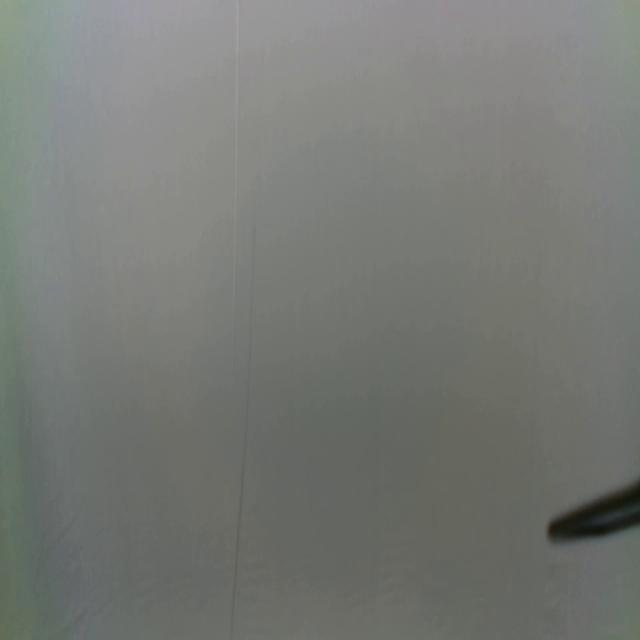crease: (232, 224, 259, 639), (227, 0, 244, 374)
